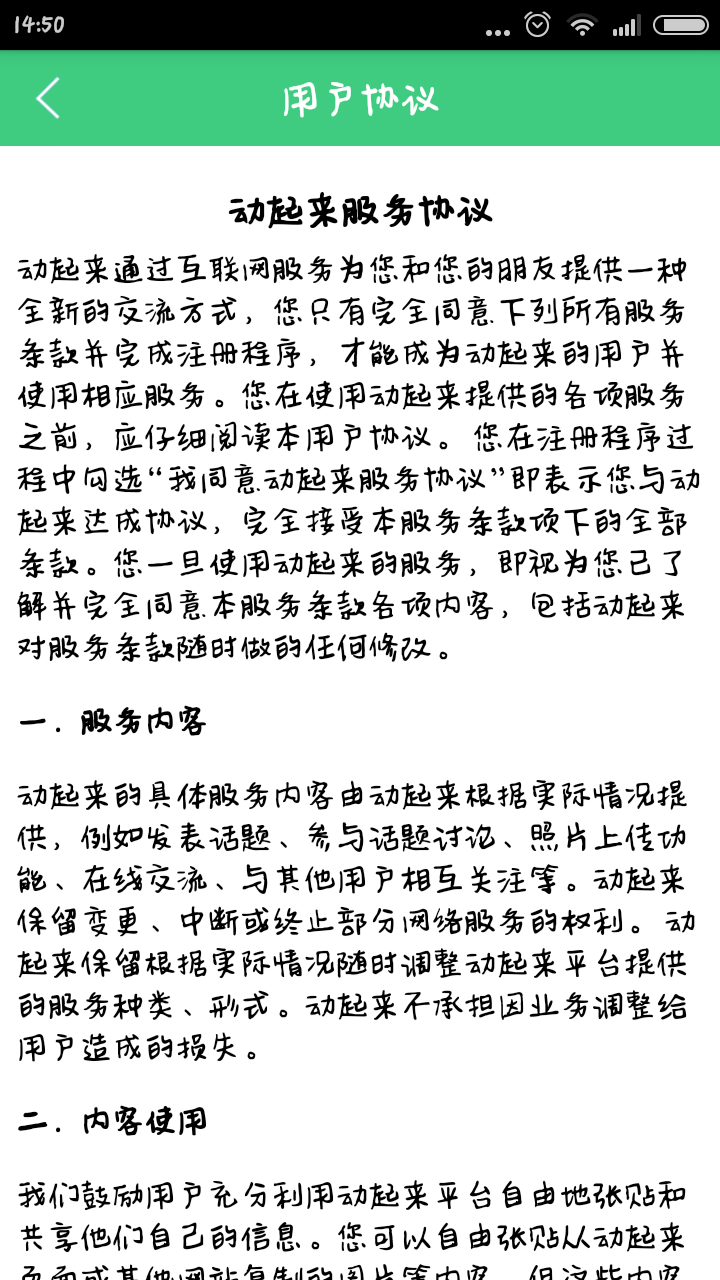textview: (6, 173, 710, 1080)
